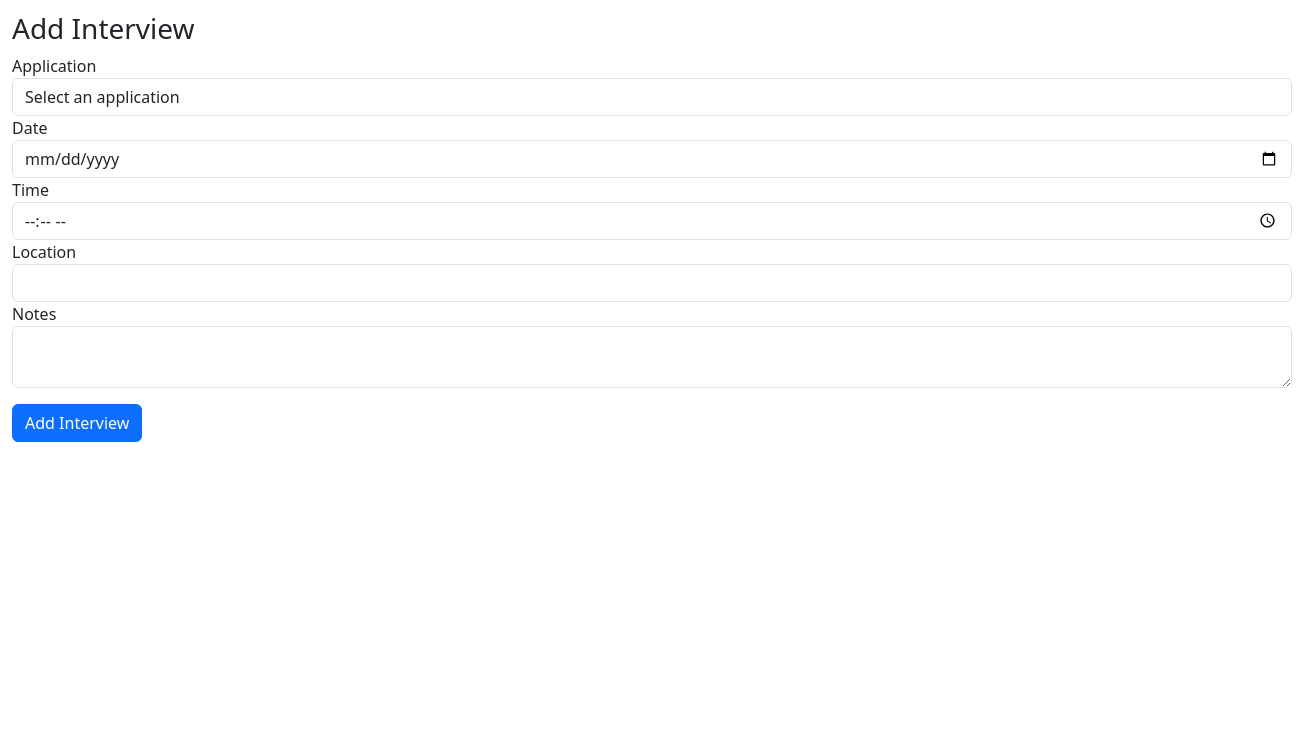
it: AddInterviewForm Component › clears individual field error on change
Click the button "Add Interview" at (77, 423), box [12, 404, 142, 442]
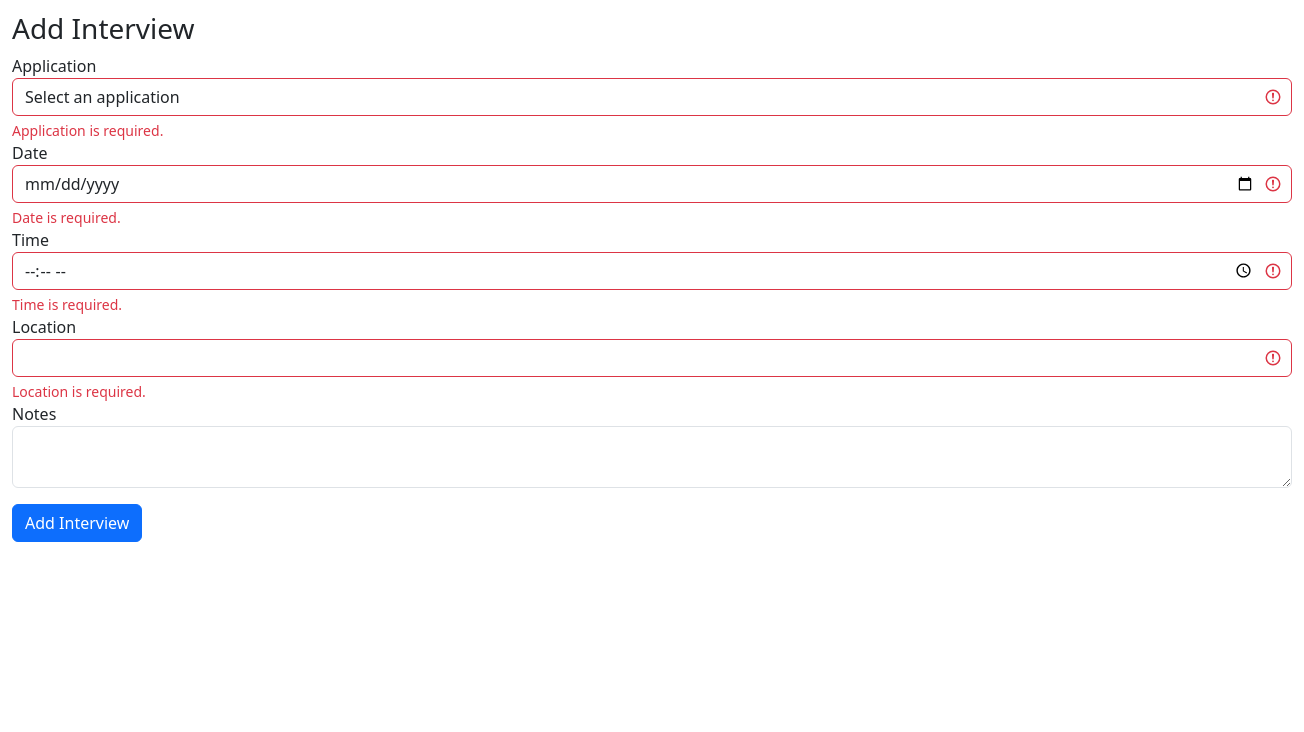
Type "123 Main St" into the field labelled "Location" at (652, 358), box [12, 339, 1292, 377]
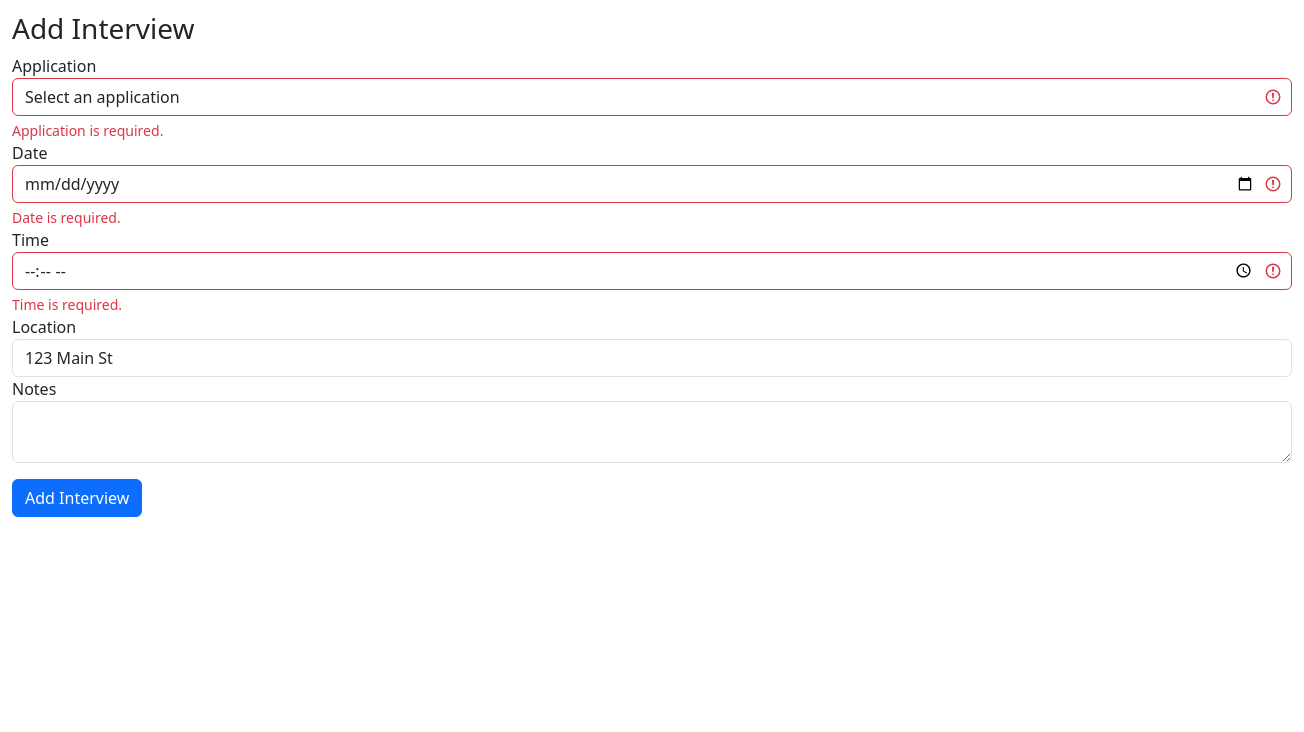
Check: the text "Location is required." is gone
